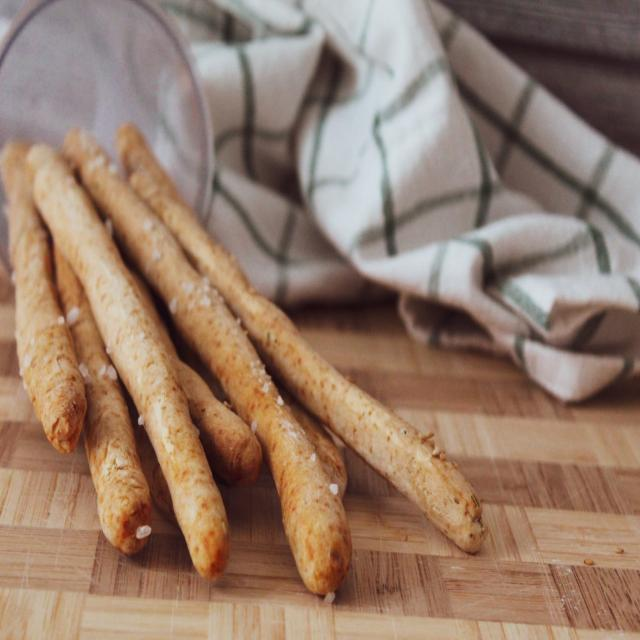Grissini: (2, 121, 490, 615)
